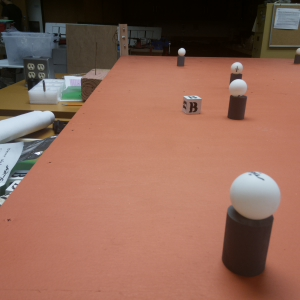blockB: (182, 93, 201, 116)
corner: (116, 23, 131, 57)
obstacle: (221, 170, 279, 279), (227, 80, 248, 122), (228, 61, 246, 79), (175, 47, 187, 67)
